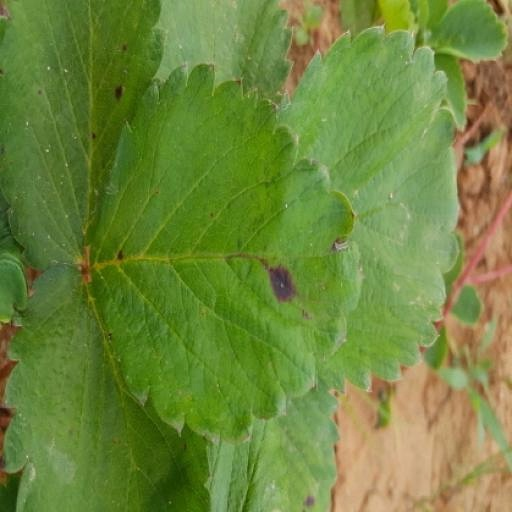Leaf Spot: (150, 65, 427, 449), (301, 0, 511, 248), (346, 243, 511, 511), (170, 0, 309, 137)
